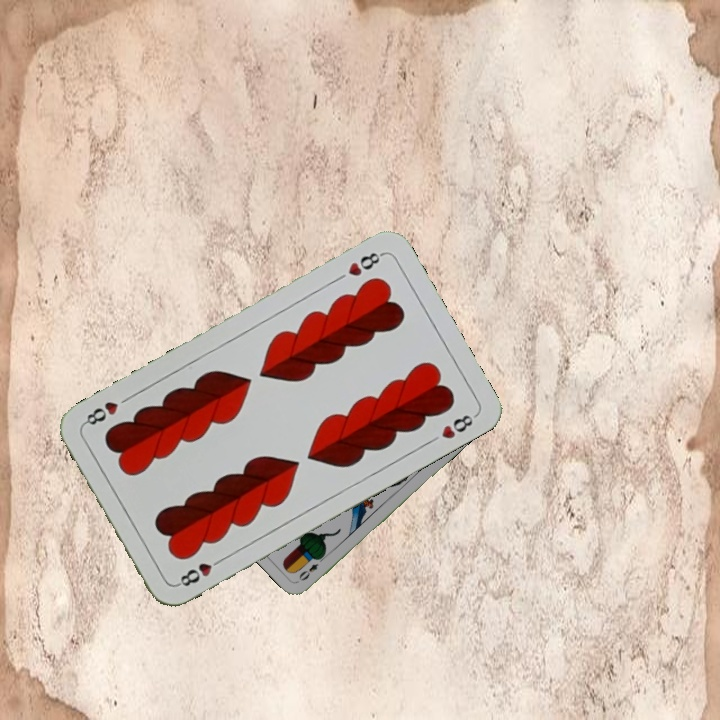EO: (295, 552, 328, 584)
H8: (172, 553, 226, 589), (344, 248, 387, 279)
